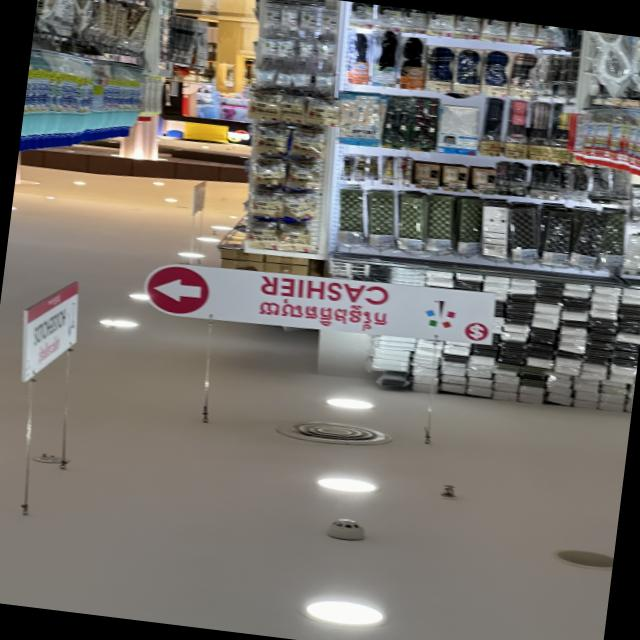Yolov11_80vkh: (248, 296, 397, 335)
